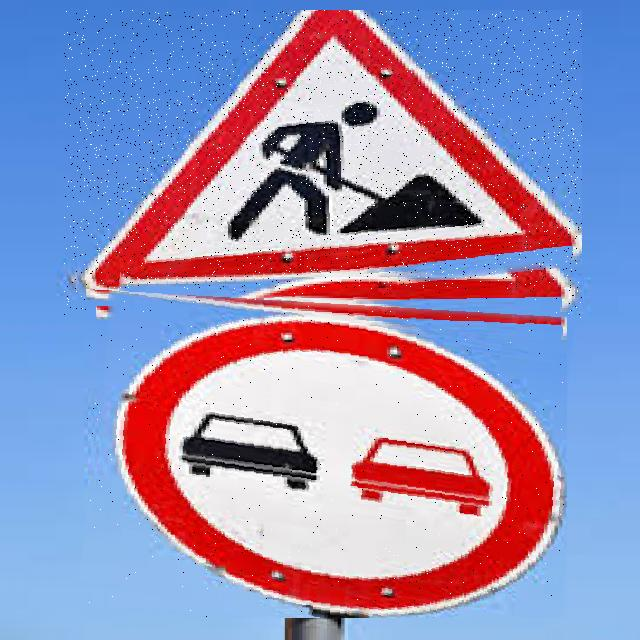no overtaking: (86, 289, 567, 618)
roadwork: (64, 10, 582, 318)
